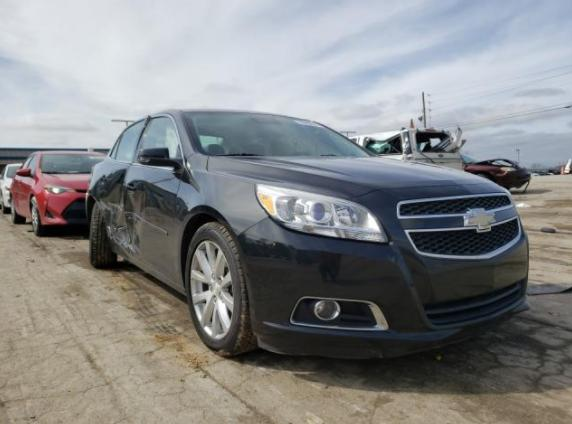Back-door: (97, 116, 148, 259)
Back-wheel: (88, 202, 119, 271)
Back-window: (111, 119, 145, 162)
Fender: (172, 151, 269, 288)
Front-bumper: (235, 182, 531, 358)
Front-door: (123, 112, 186, 282)
Front-wheel: (185, 221, 259, 358)
Front-window: (135, 117, 183, 167)
Grille: (396, 192, 522, 260)
Headlight: (255, 183, 394, 245)
Hood: (207, 155, 495, 200)
Mirror: (136, 147, 183, 172)
Quarter-panel: (85, 156, 106, 222)
Rocker-panel: (112, 240, 187, 298)
Roof: (171, 108, 313, 121)
Windshield: (182, 112, 373, 157)
